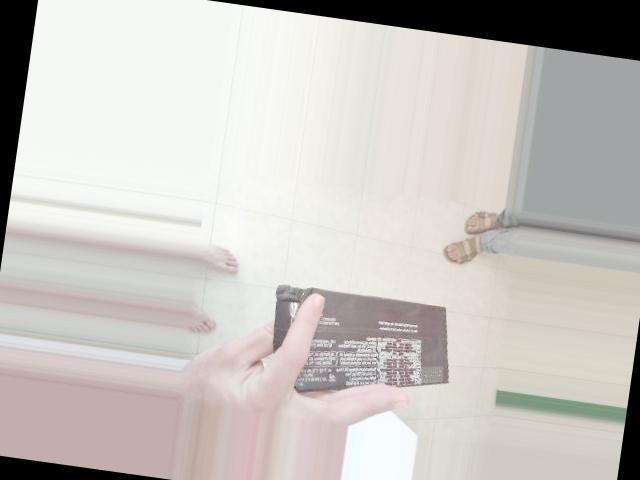chocolate: (293, 183, 422, 386)
